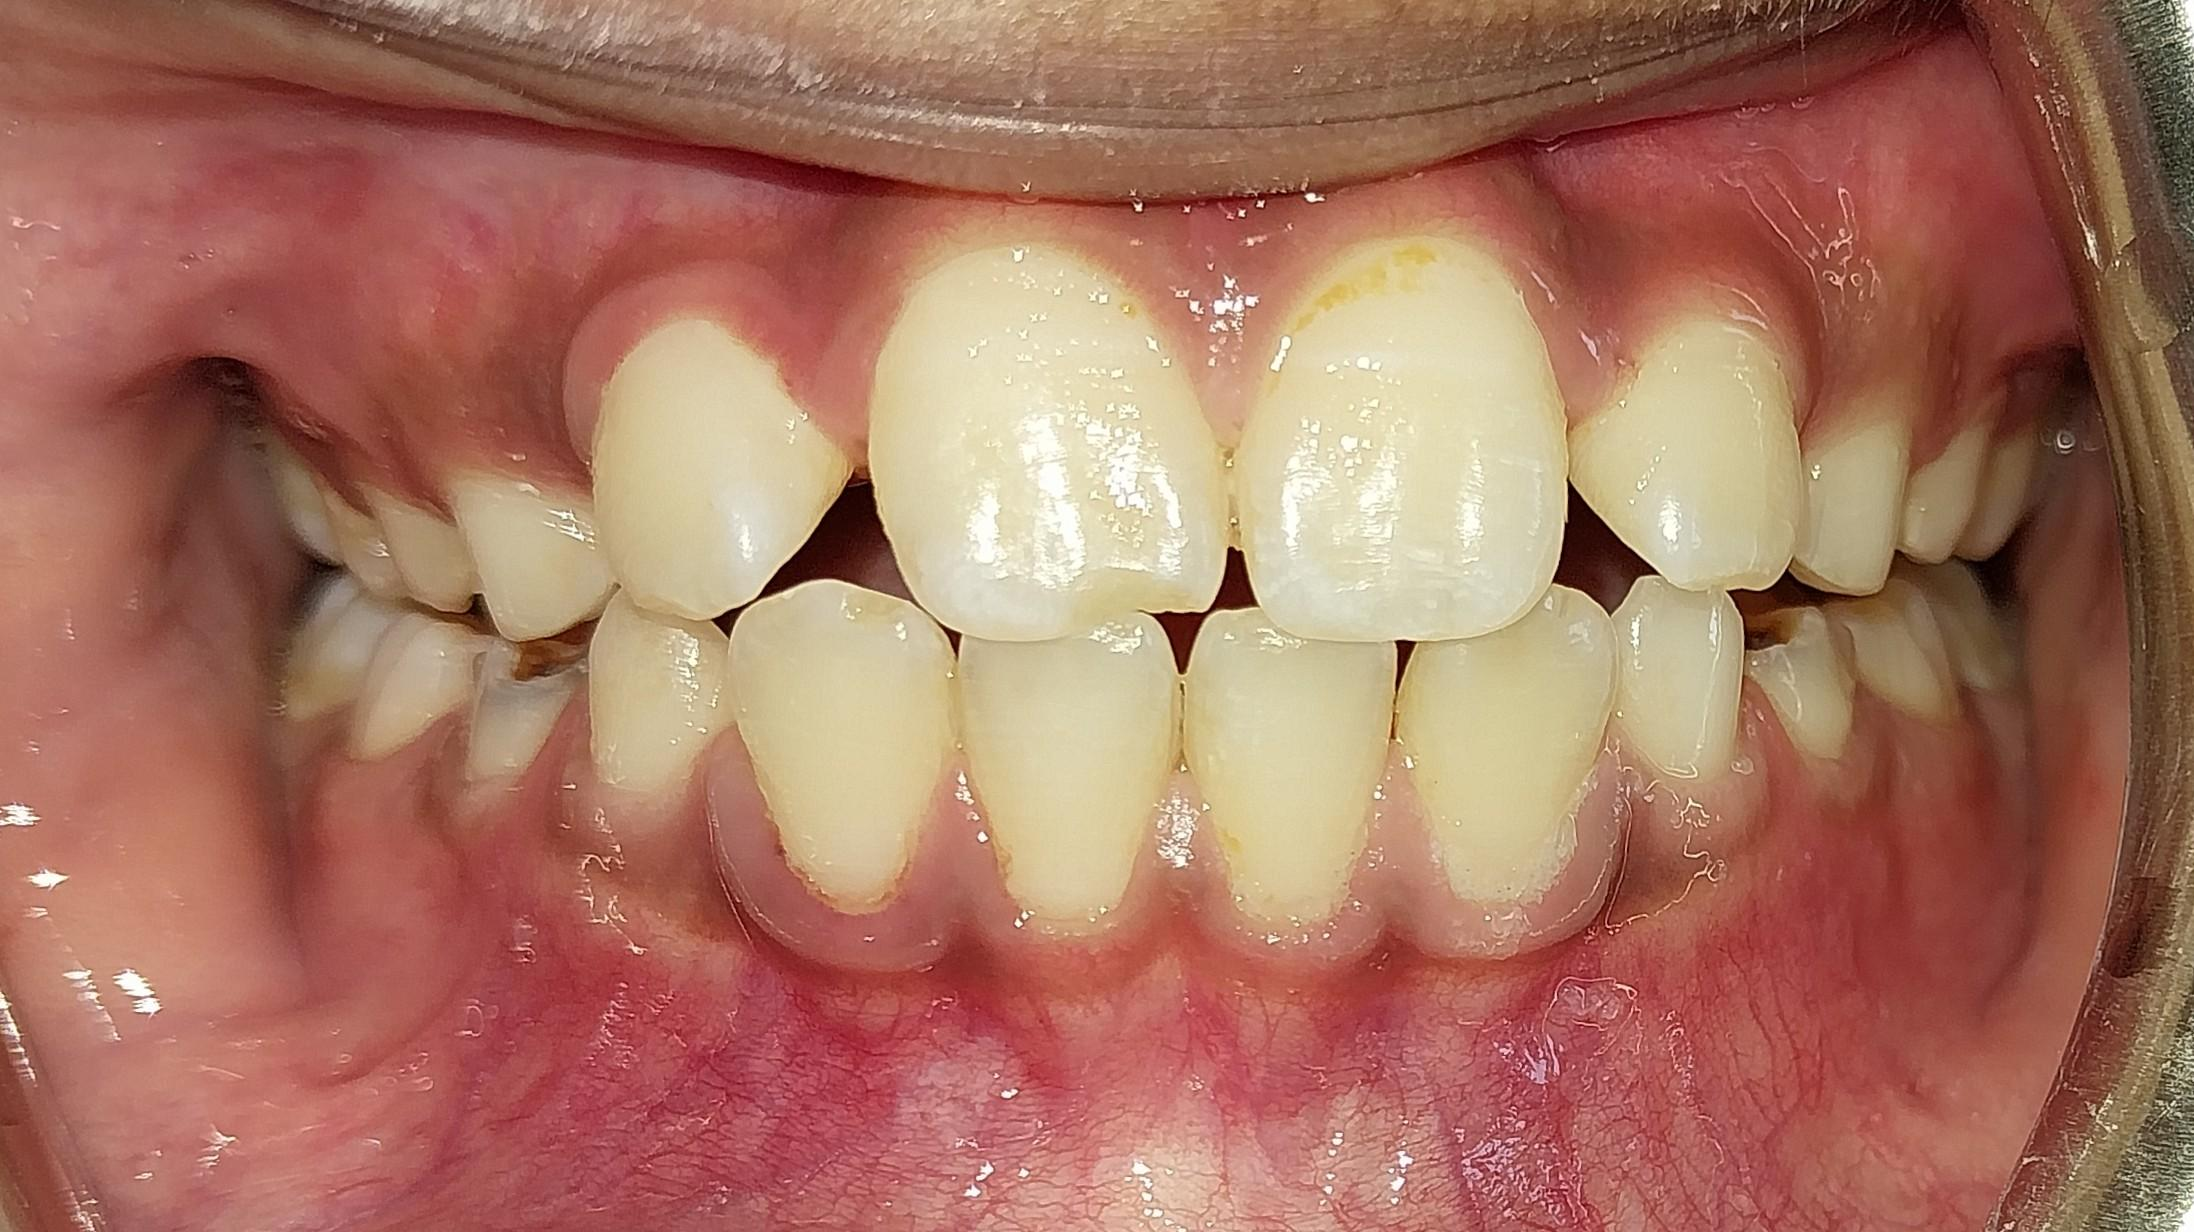d: (467, 630, 585, 779), (1740, 601, 1854, 752)
